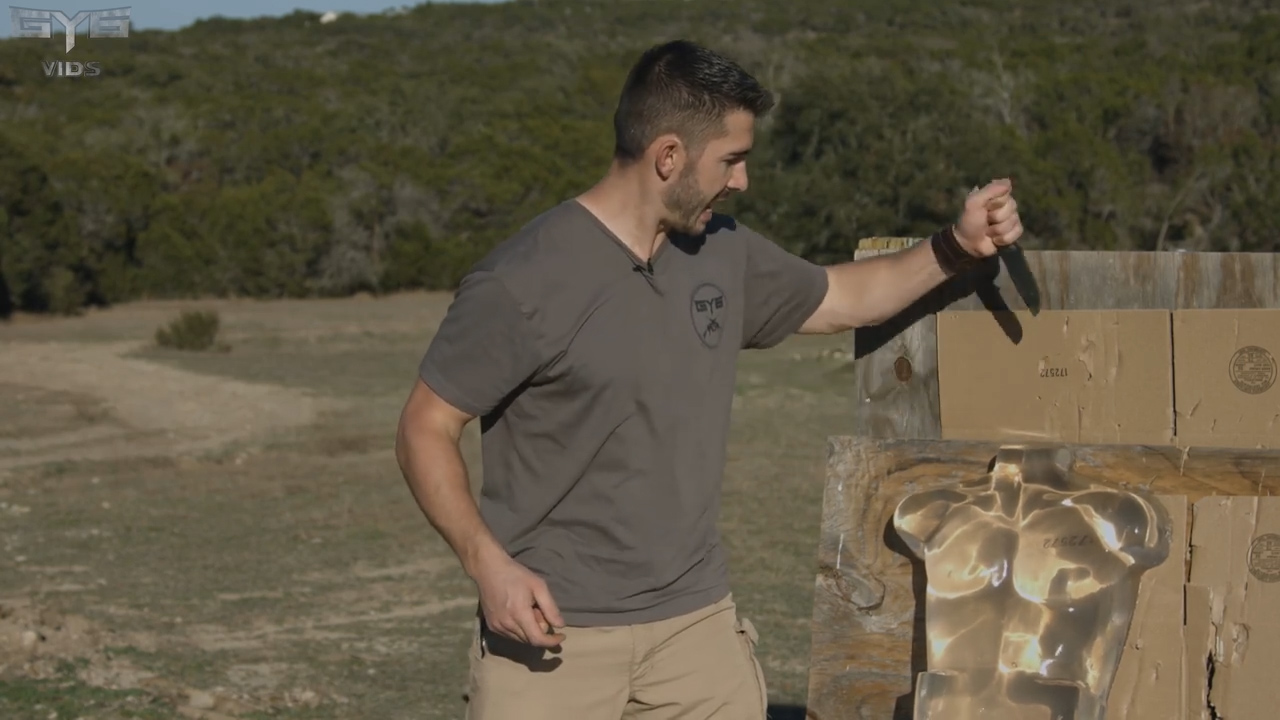knife: (968, 176, 1051, 316)
